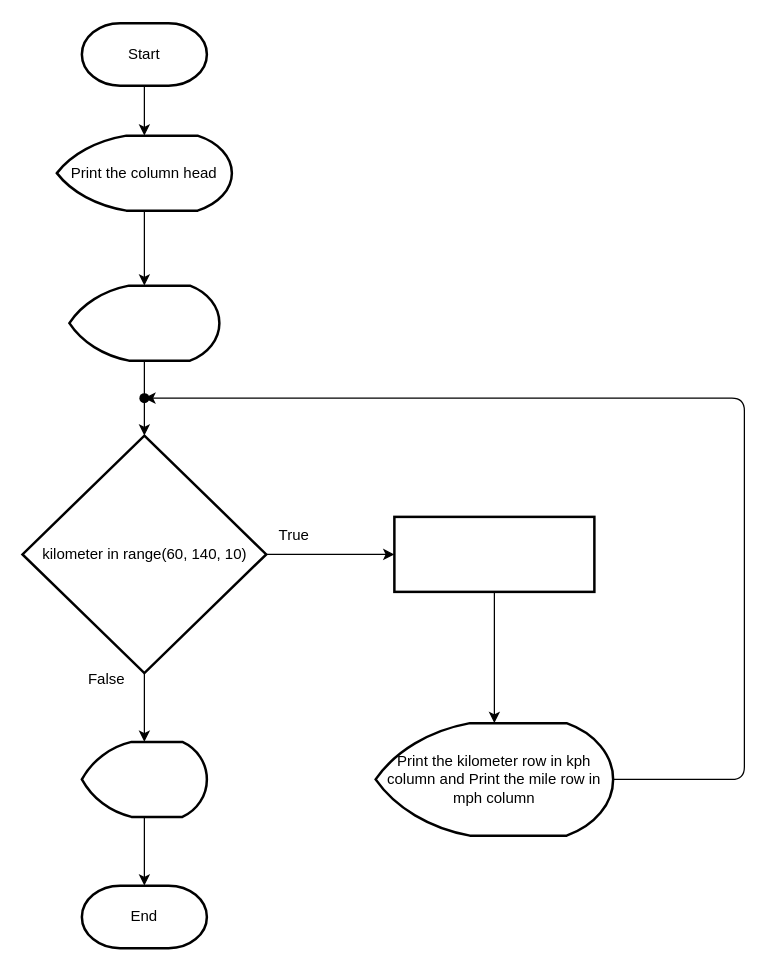
Image size: 776x970. Some labels were removed from this diagram. Each missing label, with the centre of its shape:
"mile = kilometer * 0.6214" goes at (493,553).
"Print the end of table line" goes at (144,779).
"Print the table line" goes at (144,322).
